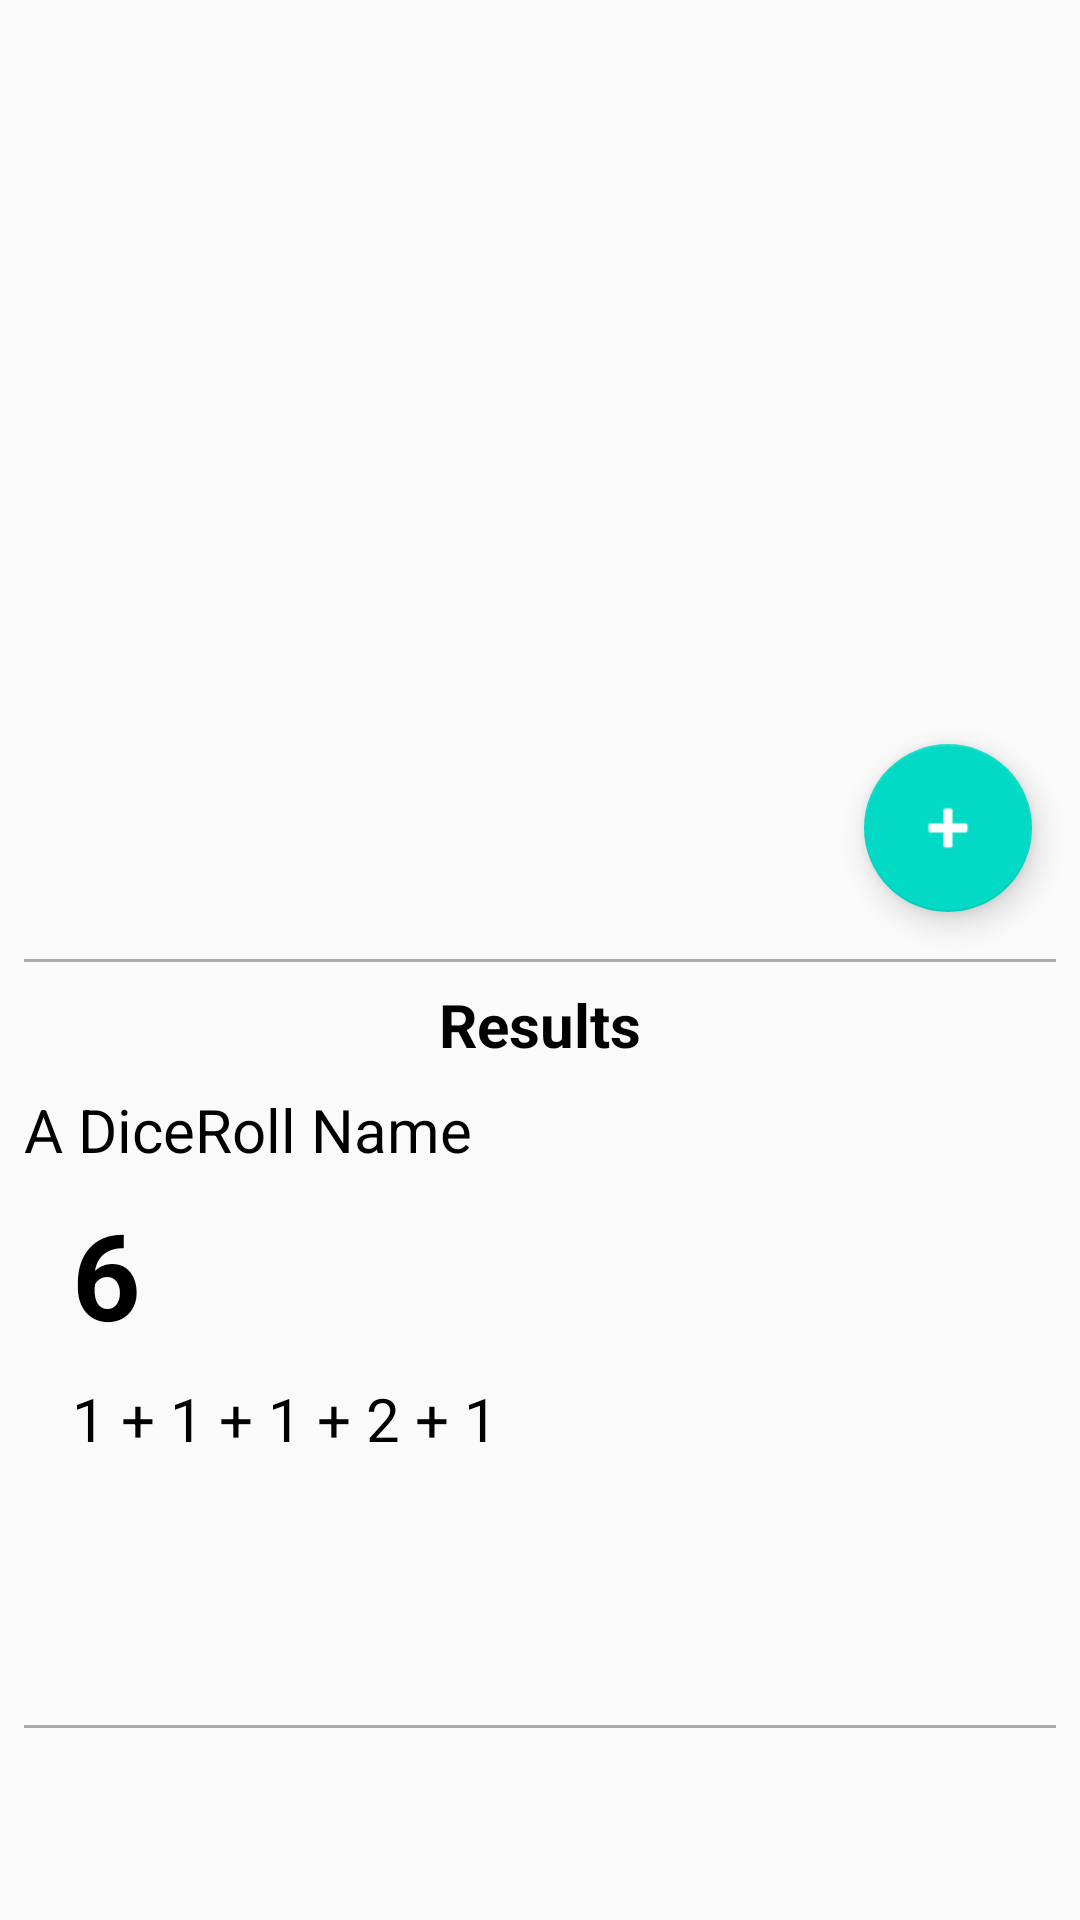

Named icons in this screenshot (1080px x 1920px) and their centers, [x,y]:
add: [948,828]
